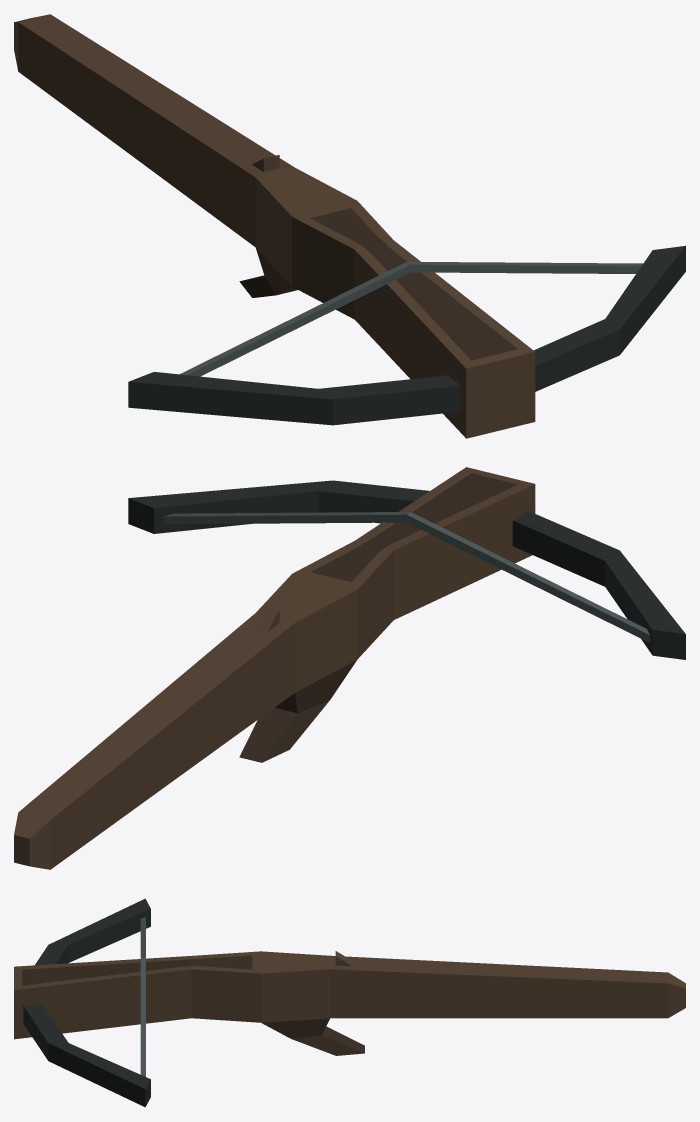
File: Crossbow_1_Brown.fbx
3 renders of one model, top to bottom at view 1: azimuth 30°, elevation 25°; view 2: azimuth 150°, elevation 25°; view 3: azimuth 270°, elevation 25°, orthographic. The views are drawn at different scales.
Visible parts, largest first — view 1: Crossbow_1_Brown_Part_1, Crossbow_1_Brown_Part_2, Crossbow_1_Brown_Part_4, Crossbow_1_Brown_Part_3; view 2: Crossbow_1_Brown_Part_1, Crossbow_1_Brown_Part_2, Crossbow_1_Brown_Part_4, Crossbow_1_Brown_Part_3; view 3: Crossbow_1_Brown_Part_1, Crossbow_1_Brown_Part_2, Crossbow_1_Brown_Part_4, Crossbow_1_Brown_Part_3.
Boxes of the visible parts, <box> form: Crossbow_1_Brown_Part_1: <box>14,14,535,438</box>; Crossbow_1_Brown_Part_2: <box>128,245,685,425</box>; Crossbow_1_Brown_Part_4: <box>239,208,517,360</box>; Crossbow_1_Brown_Part_3: <box>180,261,643,376</box>; Crossbow_1_Brown_Part_1: <box>14,467,535,869</box>; Crossbow_1_Brown_Part_2: <box>128,480,685,659</box>; Crossbow_1_Brown_Part_4: <box>239,473,517,762</box>; Crossbow_1_Brown_Part_3: <box>163,512,649,642</box>; Crossbow_1_Brown_Part_1: <box>14,951,685,1039</box>; Crossbow_1_Brown_Part_2: <box>23,898,150,1107</box>; Crossbow_1_Brown_Part_4: <box>22,955,364,1055</box>; Crossbow_1_Brown_Part_3: <box>140,917,145,1076</box>.
Size of the model in its own units: 64.29 by 15.12 by 95.68.
